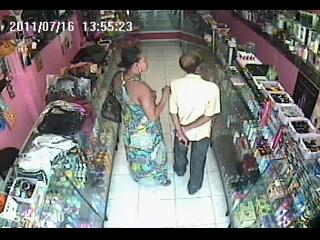Normal: (112, 46, 172, 187), (168, 52, 222, 196)
